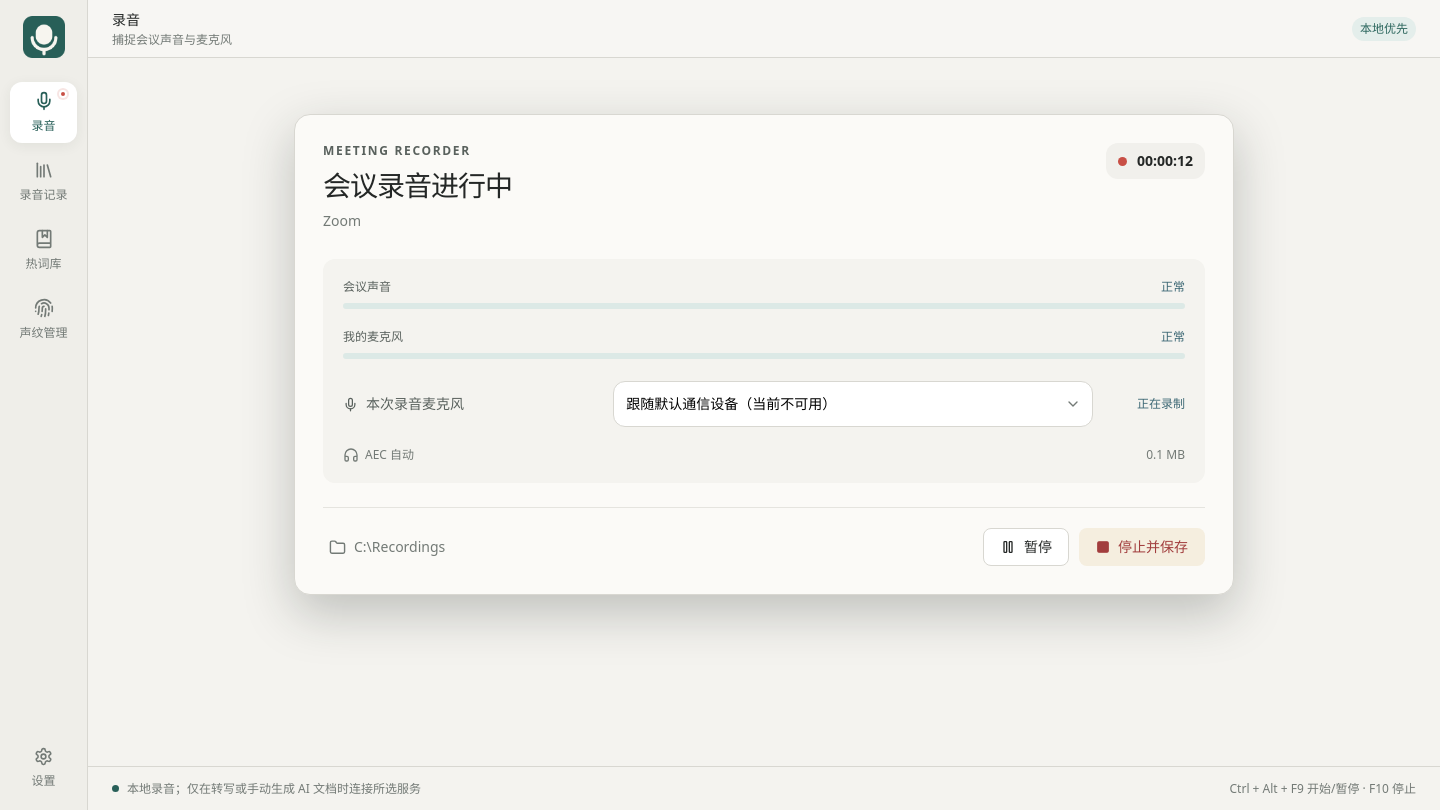
Test: Nota UI states › keeps the previous microphone selected when a live switch fails
Select "USB 会议麦克风" in the dropdown labelled "本次录音麦克风": point(853, 404) [613, 381, 1093, 427]
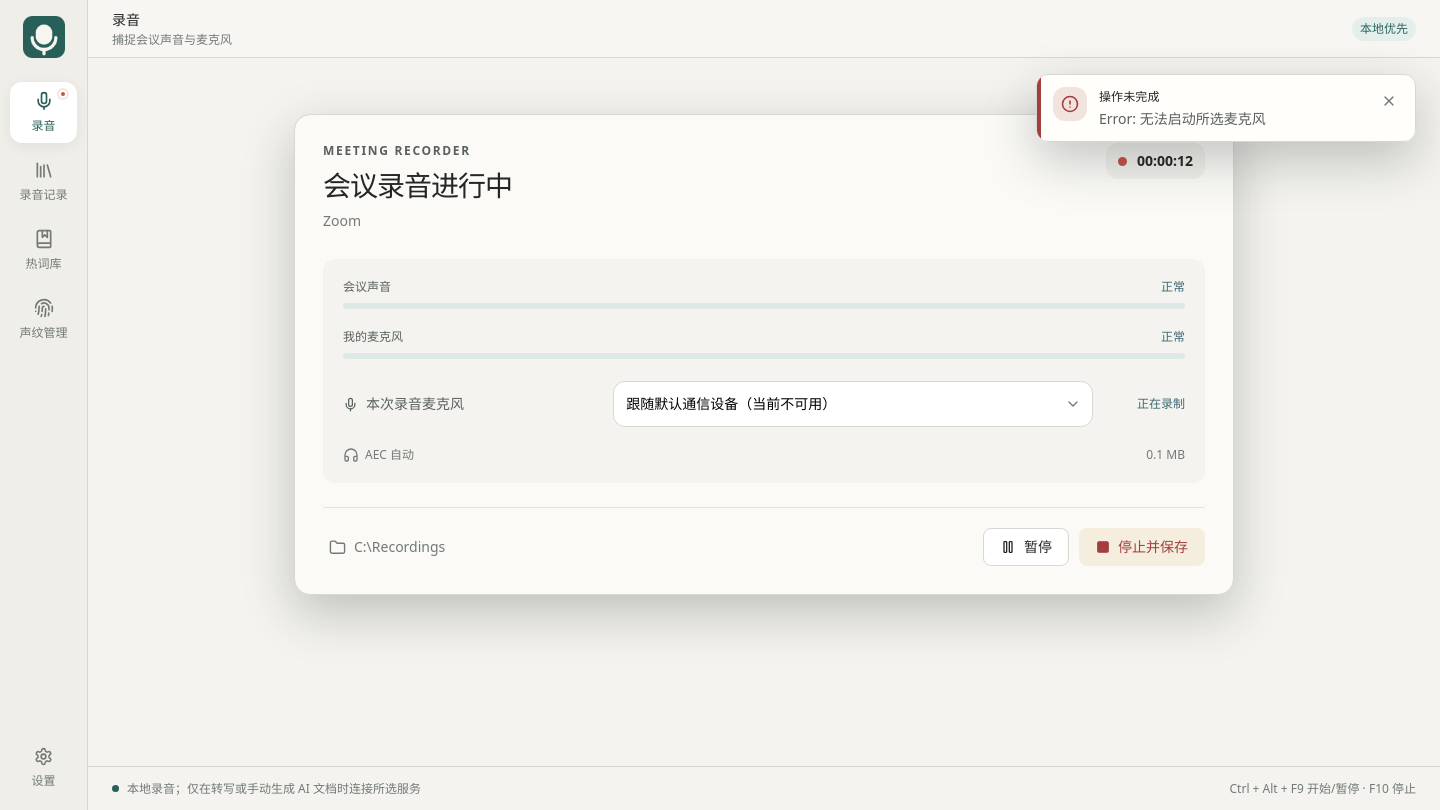
expect the message shows "无法启动所选麦克风": met, box [1099, 109, 1266, 128]
